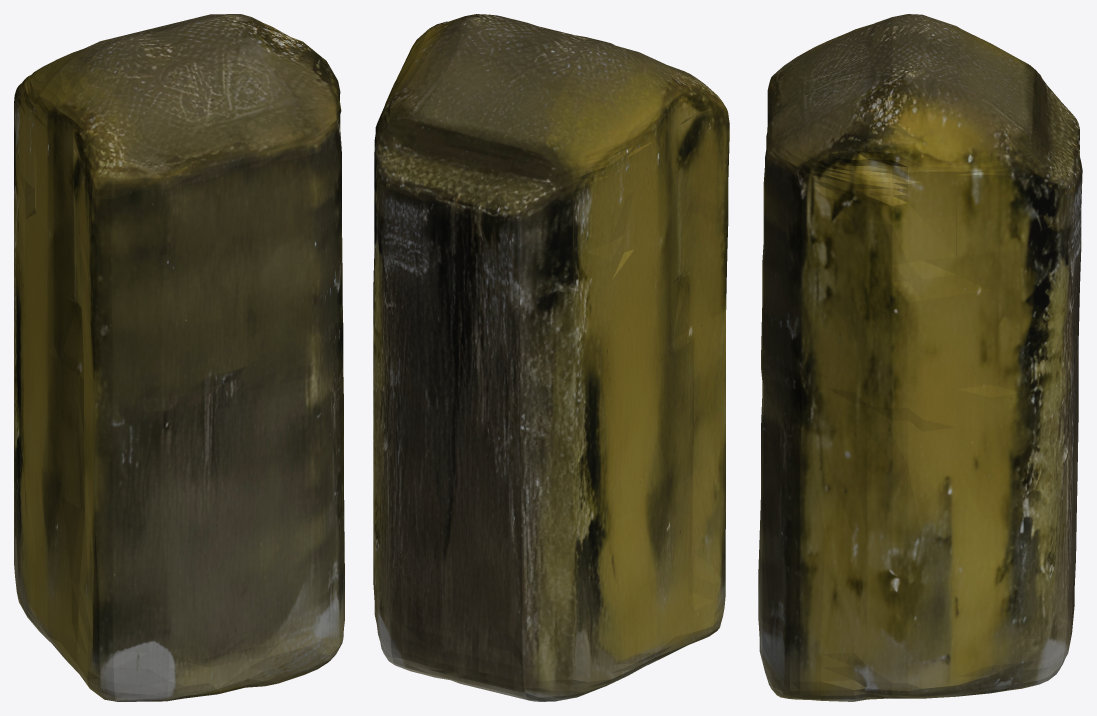
File: pyroxene_001.glb
3 views of the same model, side by side, from view 1: azimuth 30°, elevation 25°; view 2: azimuth 150°, elevation 25°; view 3: azimuth 270°, elevation 25° (orthographic).
Visible parts, largest first — view 1: tripo_node_fcb1eae4-0cf2-434c-ac97-b7144aaad231; view 2: tripo_node_fcb1eae4-0cf2-434c-ac97-b7144aaad231; view 3: tripo_node_fcb1eae4-0cf2-434c-ac97-b7144aaad231.
Boxes of the visible parts, x1,y1,x2,y2 form: tripo_node_fcb1eae4-0cf2-434c-ac97-b7144aaad231: [14, 14, 344, 701]; tripo_node_fcb1eae4-0cf2-434c-ac97-b7144aaad231: [373, 14, 729, 701]; tripo_node_fcb1eae4-0cf2-434c-ac97-b7144aaad231: [758, 14, 1082, 701].
Size of the model in its own units: 0.4502 by 0.9441 by 0.4501.
1 material, 1 textured.
